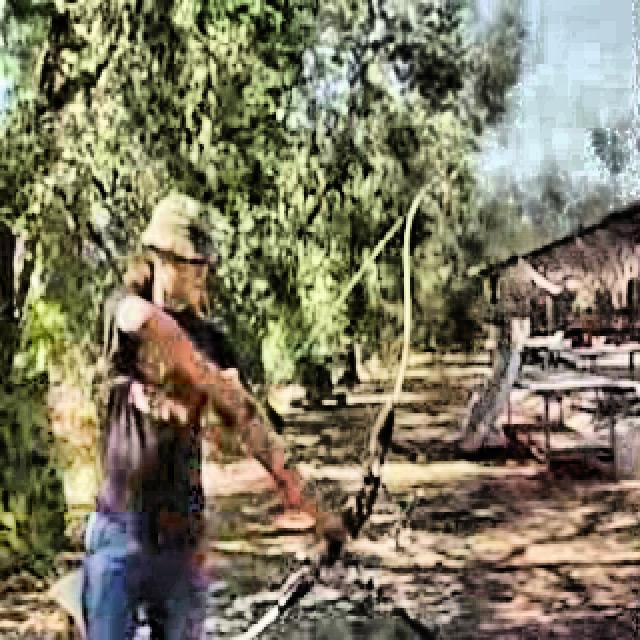I: (68, 181, 371, 640)
